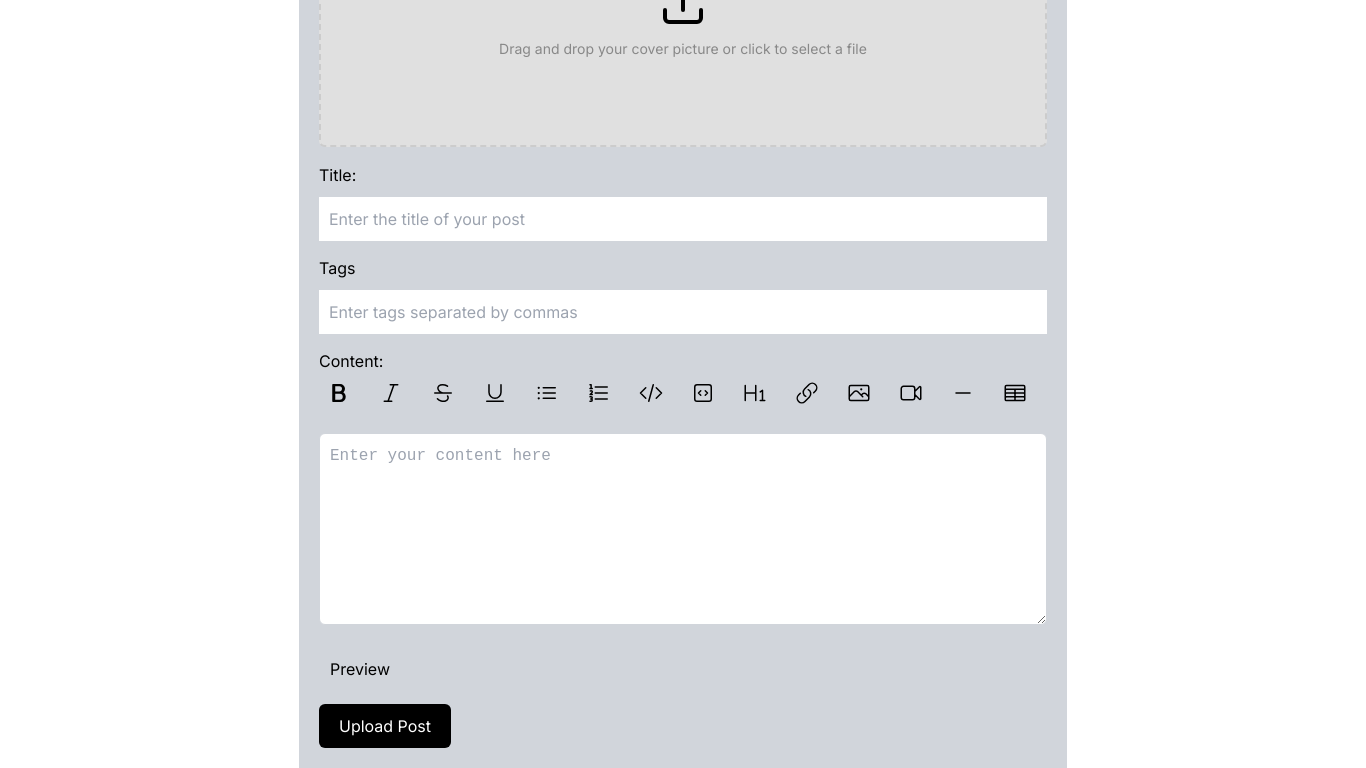
Test: Create Post Page › should display validation errors for invalid input
(page scrolled)
Click the button with test id "Upload Post" at coordinates (385, 726), box [319,704,451,748]
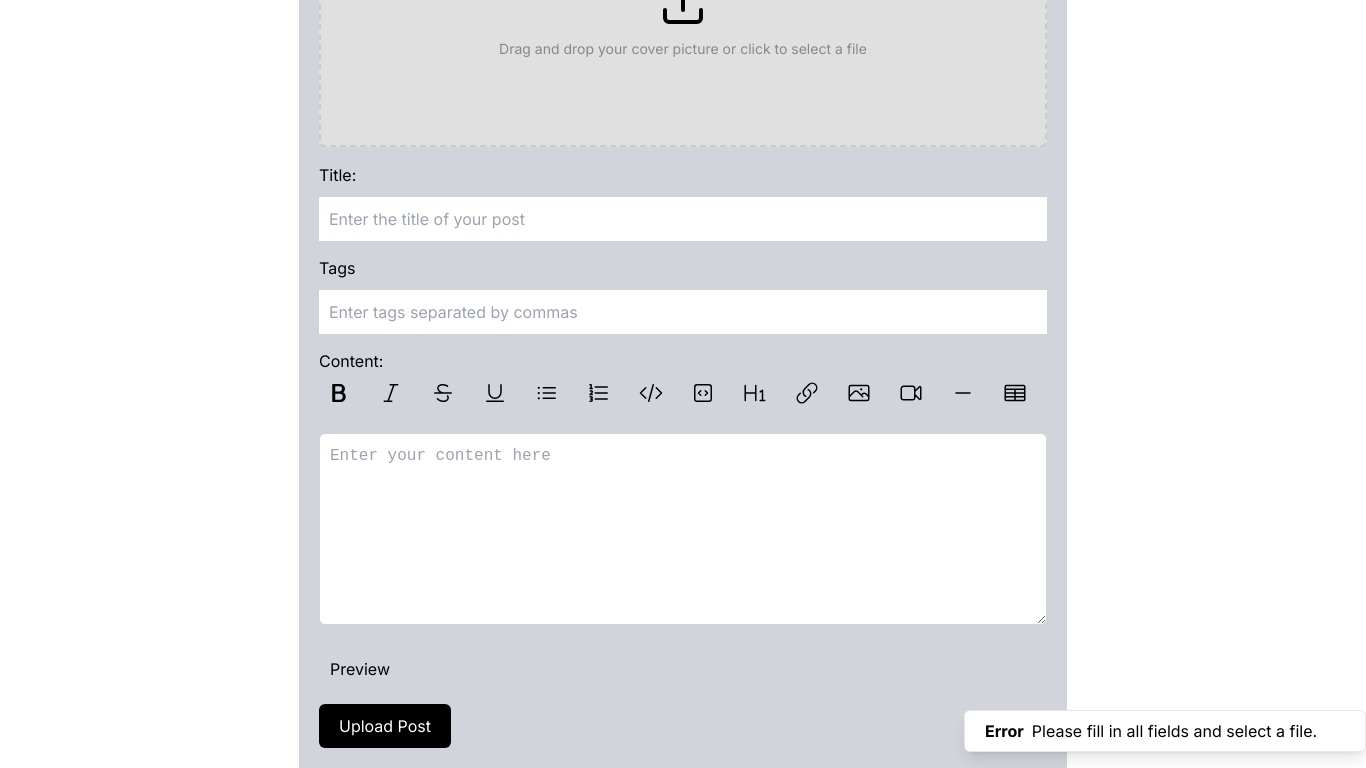
Expected: the text "Please fill in all fields and select a file." is shown, [1032,719,1317,743]
